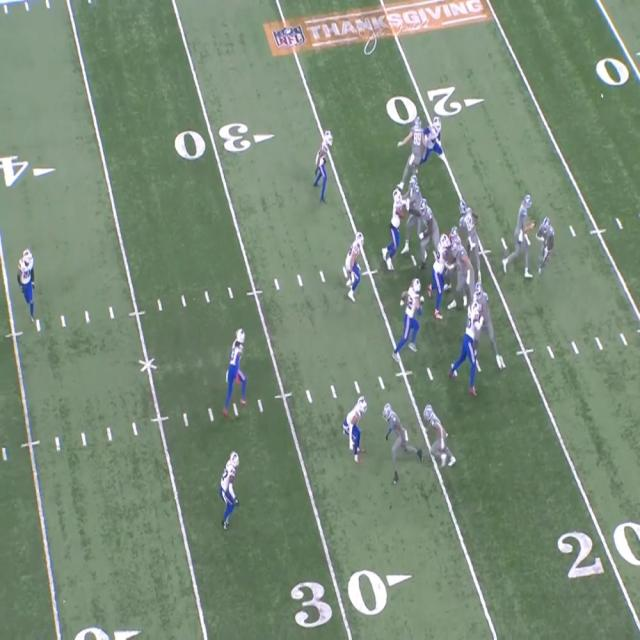db: (230, 326, 247, 413), (222, 452, 240, 529), (348, 394, 368, 461), (22, 247, 36, 320), (318, 131, 334, 193)
lb: (396, 280, 419, 358), (347, 232, 365, 300)
qb: (515, 193, 531, 275)
skill: (402, 116, 428, 196), (460, 202, 483, 284), (383, 402, 409, 452), (428, 404, 448, 468), (540, 214, 556, 273)
